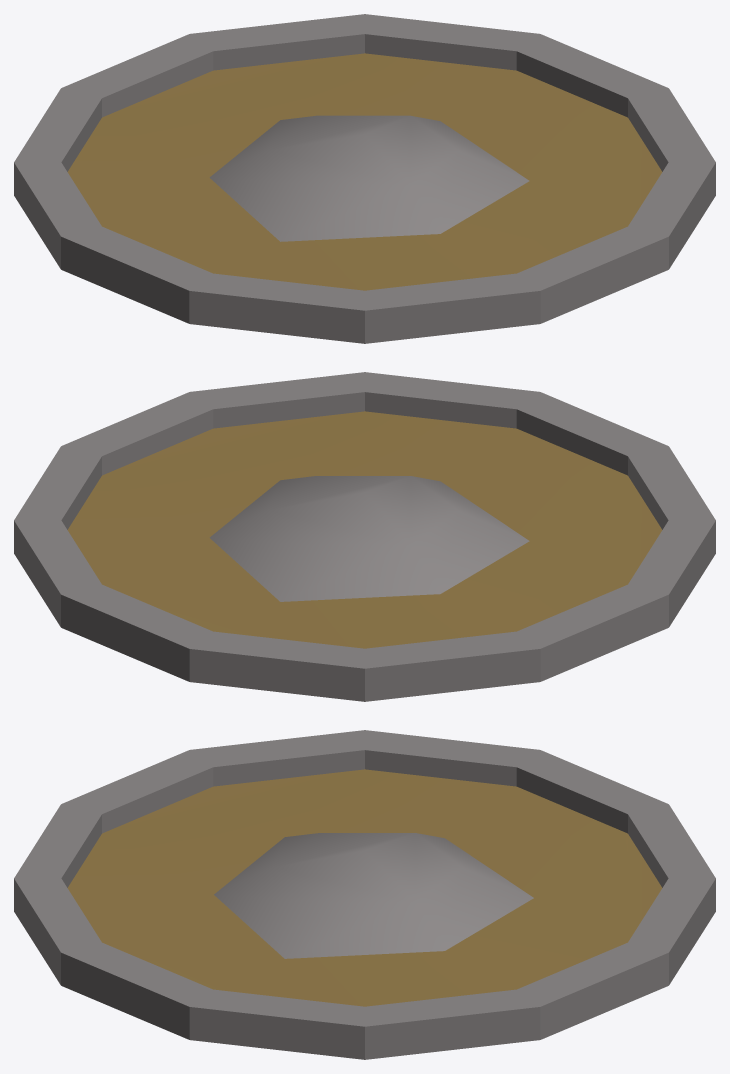
File: mesh_round_sheild.fbx
3 renders of one model, top to bottom at view 1: azimuth 30°, elevation 25°; view 2: azimuth 150°, elevation 25°; view 3: azimuth 270°, elevation 25°, orthographic.
Parts seen in each view (by area): view 1: round_sheild; view 2: round_sheild; view 3: round_sheild.
Boxes of the visible parts, x1=… form: round_sheild: x1=14, y1=14, x2=715, y2=343; round_sheild: x1=14, y1=372, x2=715, y2=701; round_sheild: x1=14, y1=730, x2=715, y2=1059.
Size of the model in its own units: 109 by 10.42 by 109.
Materials: 1 (1 with a texture image).
